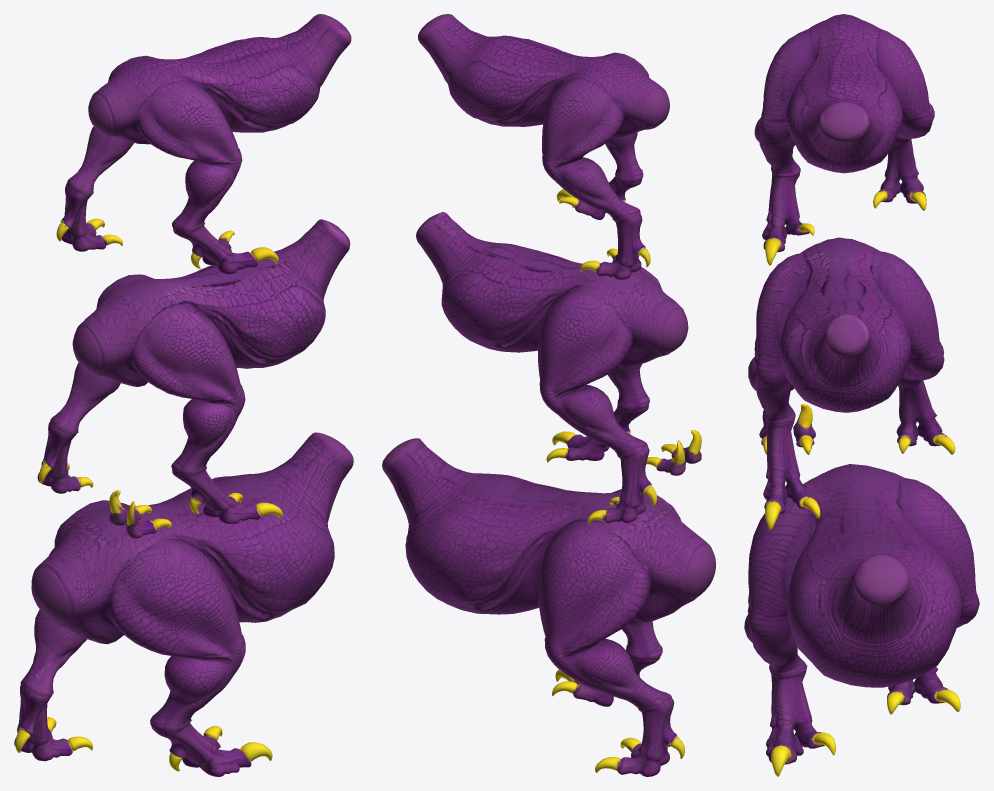
File: fullbody_sculpts.glb
The picture shows the model from 3 angles, left to right: view 1: azimuth 30°, elevation 25°; view 2: azimuth 150°, elevation 25°; view 3: azimuth 270°, elevation 25°; orthographic projection. The views are drawn at different scales.
Visible parts, largest first — view 1: tripo_node_e9ffa964-00fb-424d-a9ae-0ba5eff82ca3; view 2: tripo_node_e9ffa964-00fb-424d-a9ae-0ba5eff82ca3; view 3: tripo_node_e9ffa964-00fb-424d-a9ae-0ba5eff82ca3.
Part boxes in pixels (x1,y1,x2,y2): tripo_node_e9ffa964-00fb-424d-a9ae-0ba5eff82ca3: (14,14,353,776); tripo_node_e9ffa964-00fb-424d-a9ae-0ba5eff82ca3: (382,14,715,776); tripo_node_e9ffa964-00fb-424d-a9ae-0ba5eff82ca3: (744,14,979,776).
Size of the model in its own units: 0.4858 by 0.9995 by 0.2974.
Materials: 1 (1 with a texture image).
